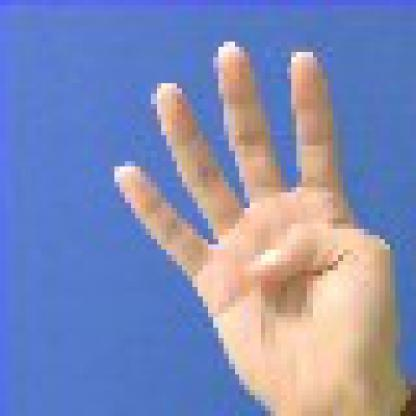four: (113, 28, 409, 405)
